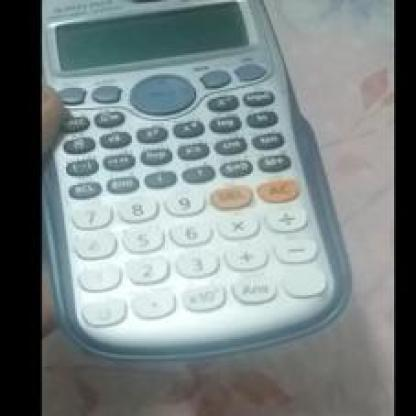calculator: (44, 0, 353, 369)
